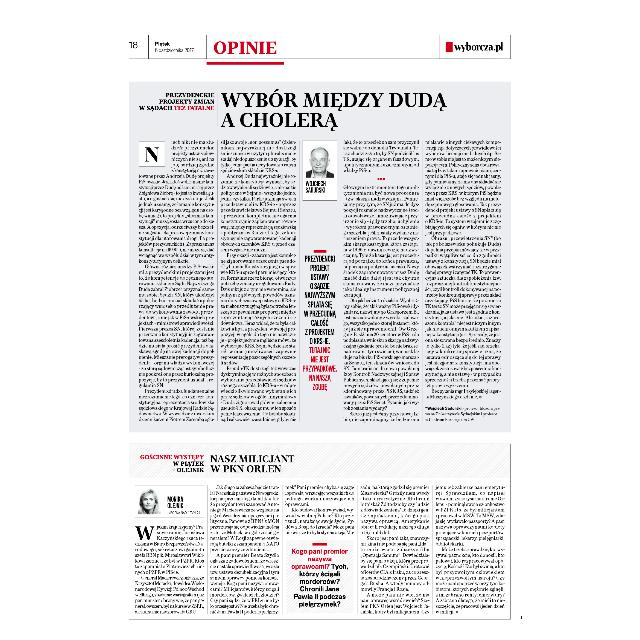article: (136, 84, 502, 423), (134, 451, 508, 617)
